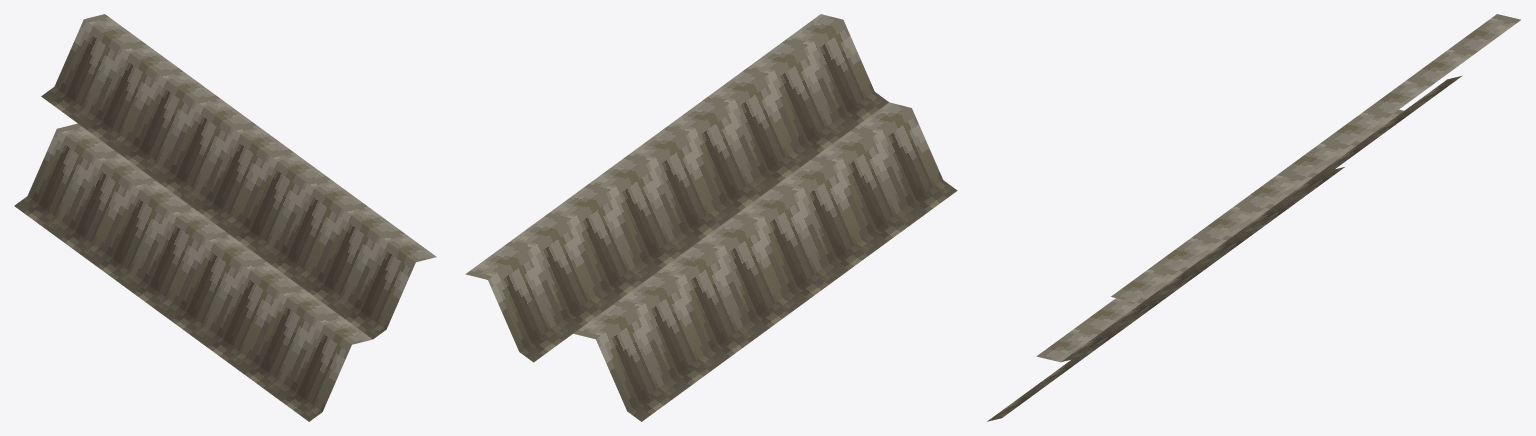
The picture shows the model from 3 angles, left to right: view 1: azimuth 30°, elevation 25°; view 2: azimuth 150°, elevation 25°; view 3: azimuth 330°, elevation 25°; orthographic projection. The views are drawn at different scales.
Size of the model in its own units: 2 by 2 by 9.
1 material, 1 textured.
